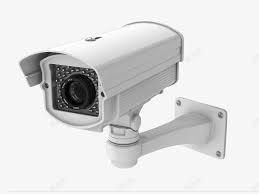tutu: (14, 10, 190, 140)
